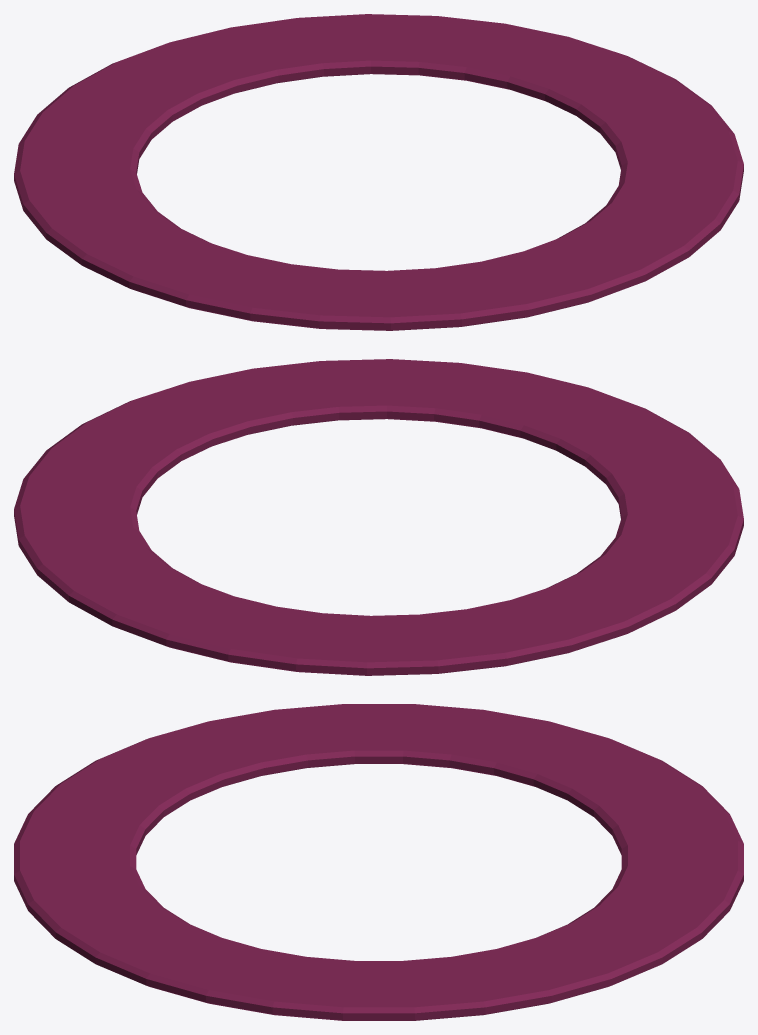
The model's file is ring_out.fbx.
3 renders of one model, top to bottom at view 1: azimuth 30°, elevation 25°; view 2: azimuth 150°, elevation 25°; view 3: azimuth 270°, elevation 25°, orthographic.
Visible parts, largest first — view 1: Ring - Out 4; view 2: Ring - Out 4; view 3: Ring - Out 4.
Part boxes in pixels (box(x1,y1,x2,y2)): Ring - Out 4: box(14, 14, 743, 330); Ring - Out 4: box(14, 359, 743, 675); Ring - Out 4: box(14, 704, 743, 1020).
Size of the model in its own units: 155 by 3.2 by 155.
